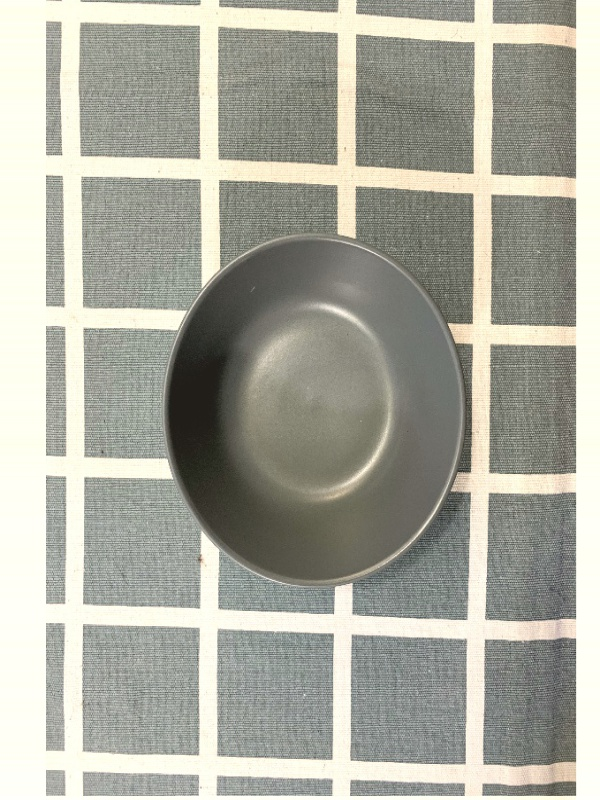bowl_big: (157, 223, 478, 610)
